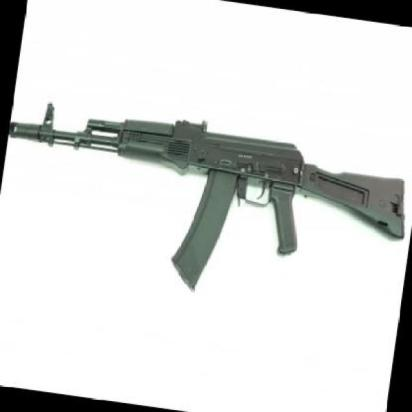Gun: (8, 102, 407, 291)
